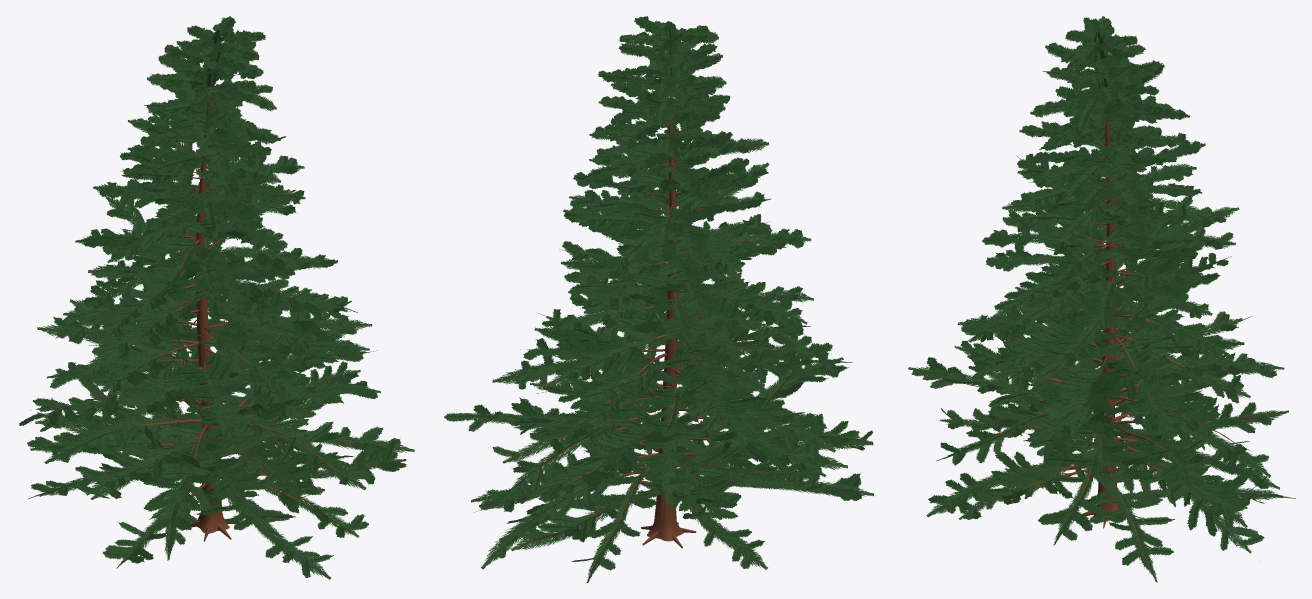
The model's file is tree_pine.glb.
The picture shows the model from 3 angles, left to right: view 1: azimuth 30°, elevation 25°; view 2: azimuth 150°, elevation 25°; view 3: azimuth 270°, elevation 25°; orthographic projection. The views are drawn at different scales.
Parts seen in each view (by area): view 1: lod0_tree_pine_needles_a, lod1_tree_pine_needles_a, lod0_tree_pine_needles_b, lod1_tree_pine_needles_b, lod0_tree_pine_bark, lod1_tree_pine_bark; view 2: lod0_tree_pine_needles_a, lod1_tree_pine_needles_a, lod0_tree_pine_needles_b, lod1_tree_pine_needles_b, lod0_tree_pine_bark, lod1_tree_pine_bark; view 3: lod0_tree_pine_needles_a, lod1_tree_pine_needles_a, lod0_tree_pine_needles_b, lod1_tree_pine_needles_b, lod0_tree_pine_bark, lod1_tree_pine_bark.
Part boxes in pixels (x1=…): lod0_tree_pine_needles_a: x1=21, y1=17, x2=406, y2=565; lod1_tree_pine_needles_a: x1=19, y1=17, x2=414, y2=579; lod0_tree_pine_needles_b: x1=49, y1=19, x2=397, y2=575; lod1_tree_pine_needles_b: x1=48, y1=16, x2=386, y2=578; lod0_tree_pine_bark: x1=35, y1=36, x2=403, y2=559; lod1_tree_pine_bark: x1=69, y1=74, x2=334, y2=554; lod0_tree_pine_needles_a: x1=446, y1=16, x2=873, y2=573; lod1_tree_pine_needles_a: x1=444, y1=16, x2=873, y2=583; lod0_tree_pine_needles_b: x1=475, y1=18, x2=864, y2=561; lod1_tree_pine_needles_b: x1=473, y1=19, x2=861, y2=561; lod0_tree_pine_bark: x1=475, y1=32, x2=868, y2=556; lod1_tree_pine_bark: x1=511, y1=35, x2=800, y2=545; lod0_tree_pine_needles_a: x1=919, y1=18, x2=1282, y2=573; lod1_tree_pine_needles_a: x1=908, y1=16, x2=1295, y2=582; lod0_tree_pine_needles_b: x1=928, y1=19, x2=1267, y2=564; lod1_tree_pine_needles_b: x1=926, y1=18, x2=1269, y2=565; lod0_tree_pine_bark: x1=942, y1=47, x2=1271, y2=565; lod1_tree_pine_bark: x1=966, y1=56, x2=1269, y2=537.
Bounding box in the file's own units: 9.91 × 13.29 × 9.69.
Materials: 3 (3 with a texture image).
